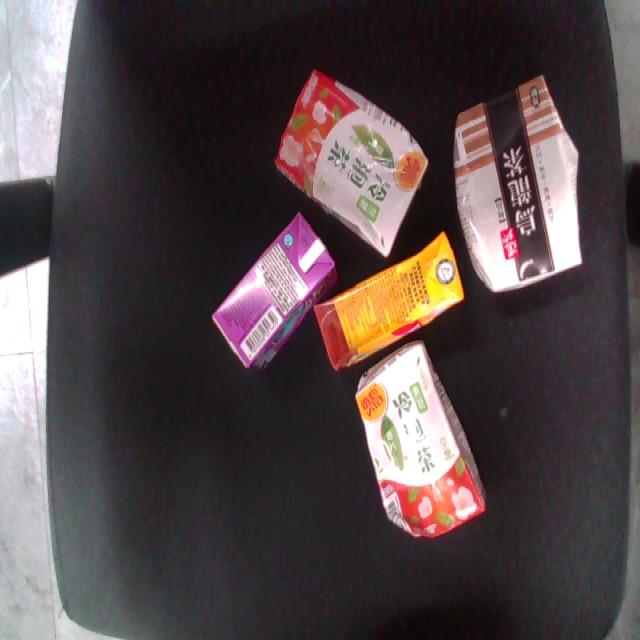juicebox: (415, 51, 618, 334), (308, 323, 523, 585), (224, 55, 464, 278), (177, 193, 385, 407), (279, 215, 495, 388)
